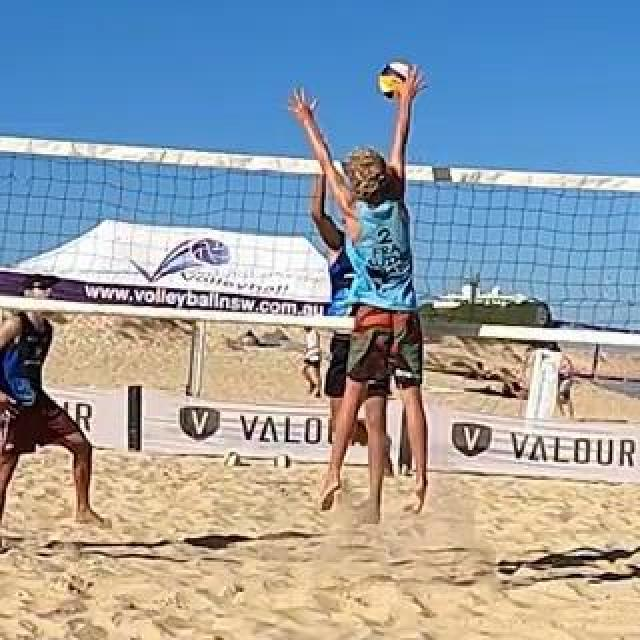volleyball: (379, 62, 411, 98), (222, 450, 242, 470), (275, 453, 293, 471)
